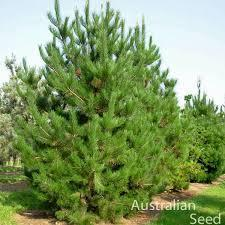tree: (13, 1, 184, 223)
